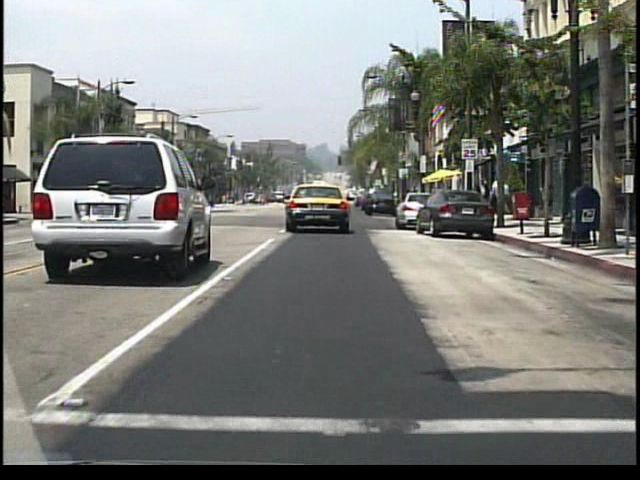person: (475, 176, 492, 220), (480, 178, 494, 218), (498, 180, 510, 217), (493, 185, 502, 212)
